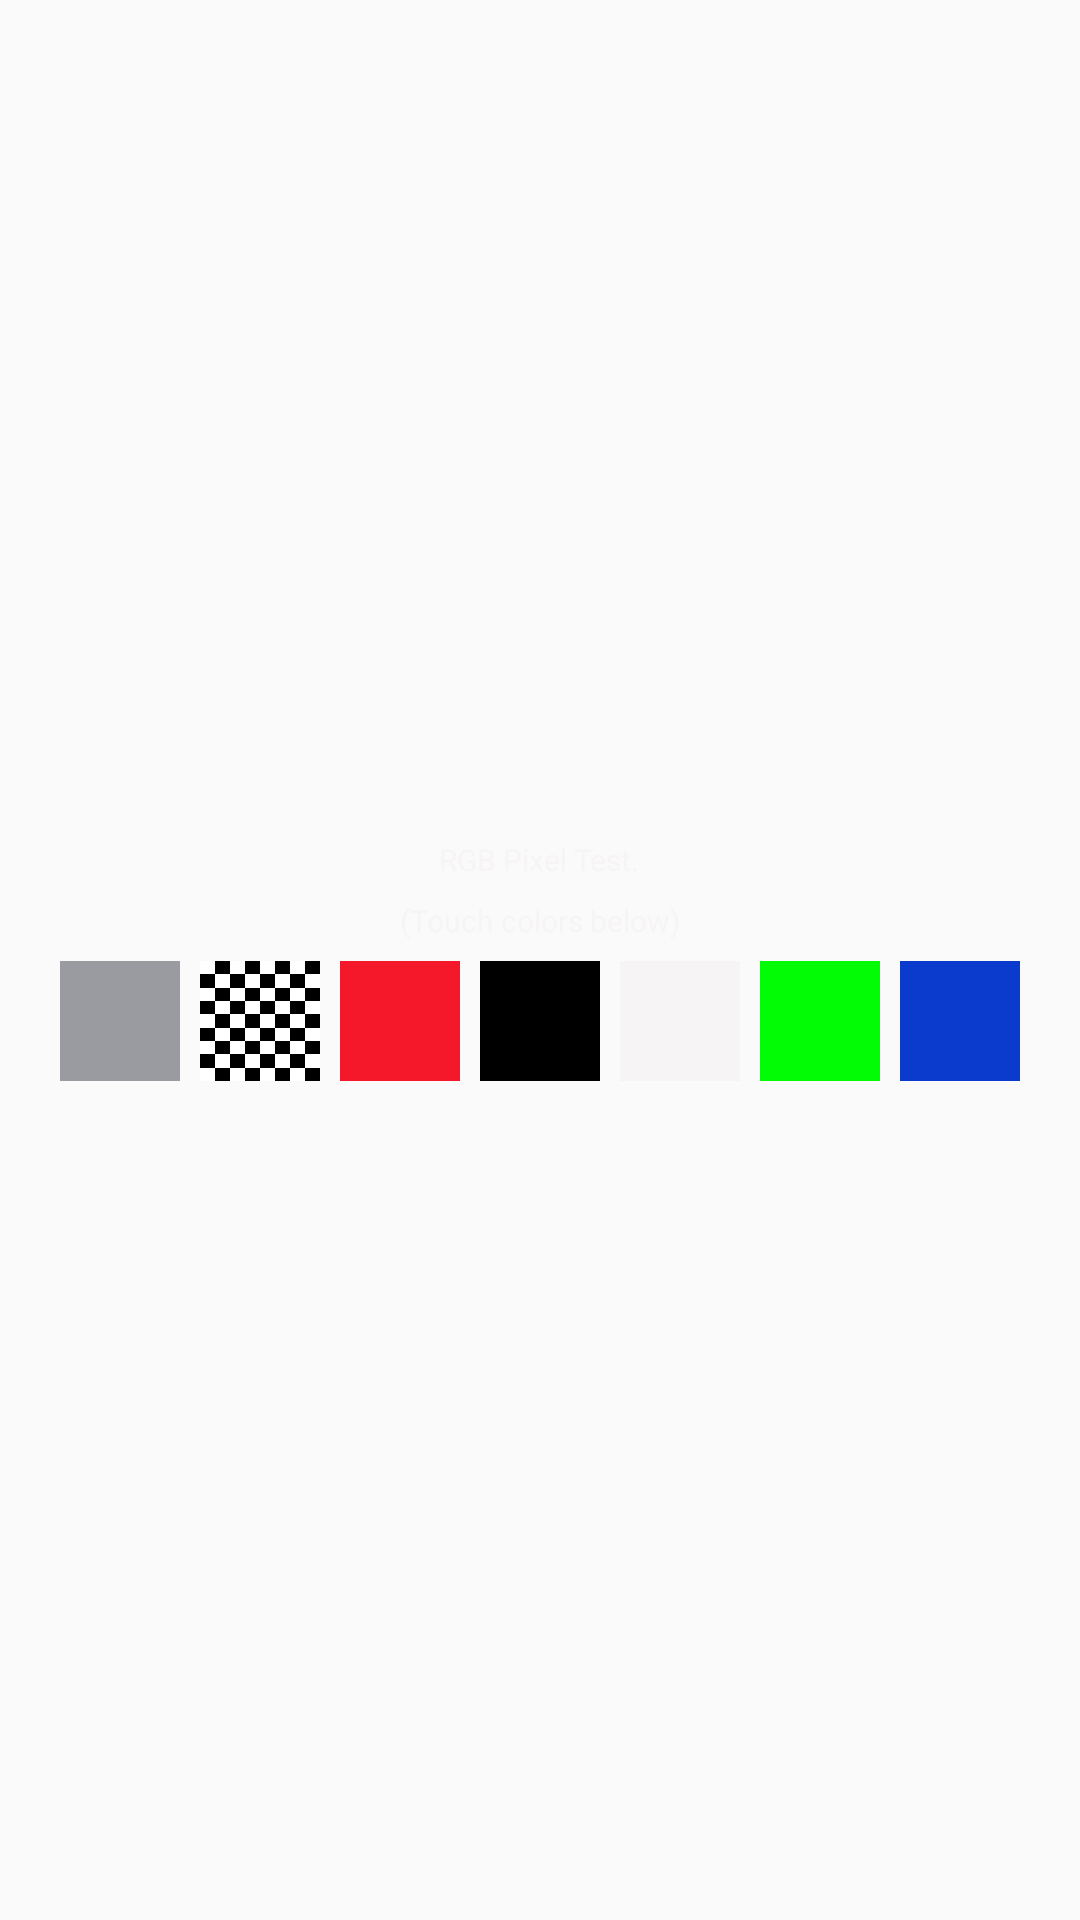

Icons on this 1080x1920 Android screen, each with the point to tap as [x,y]:
grid: [260,1021]
